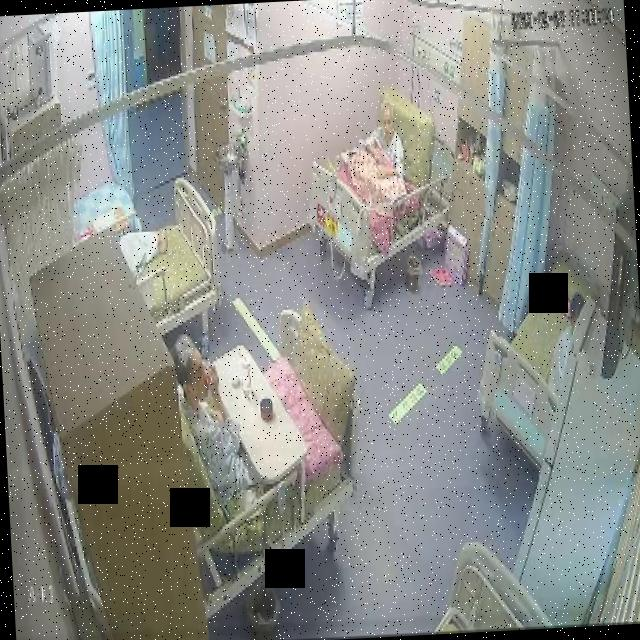bed: (174, 308, 369, 582), (293, 108, 456, 304), (471, 264, 598, 473), (118, 173, 225, 338)
patient: (172, 323, 251, 515), (364, 102, 412, 175)
sit: (171, 324, 249, 520), (364, 104, 412, 180)
